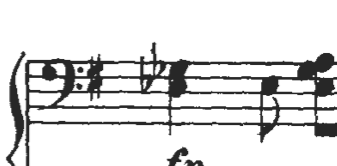bass_clef: (34, 43, 86, 114)
sharp: (84, 54, 108, 103)
